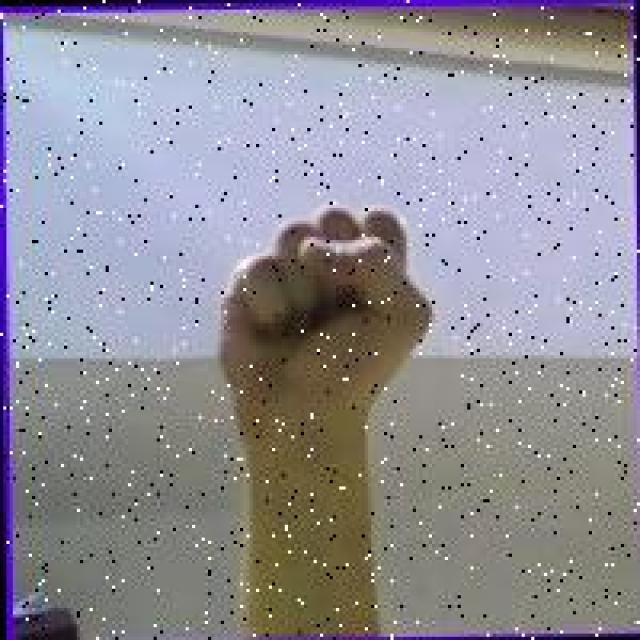S: (206, 197, 437, 421)
